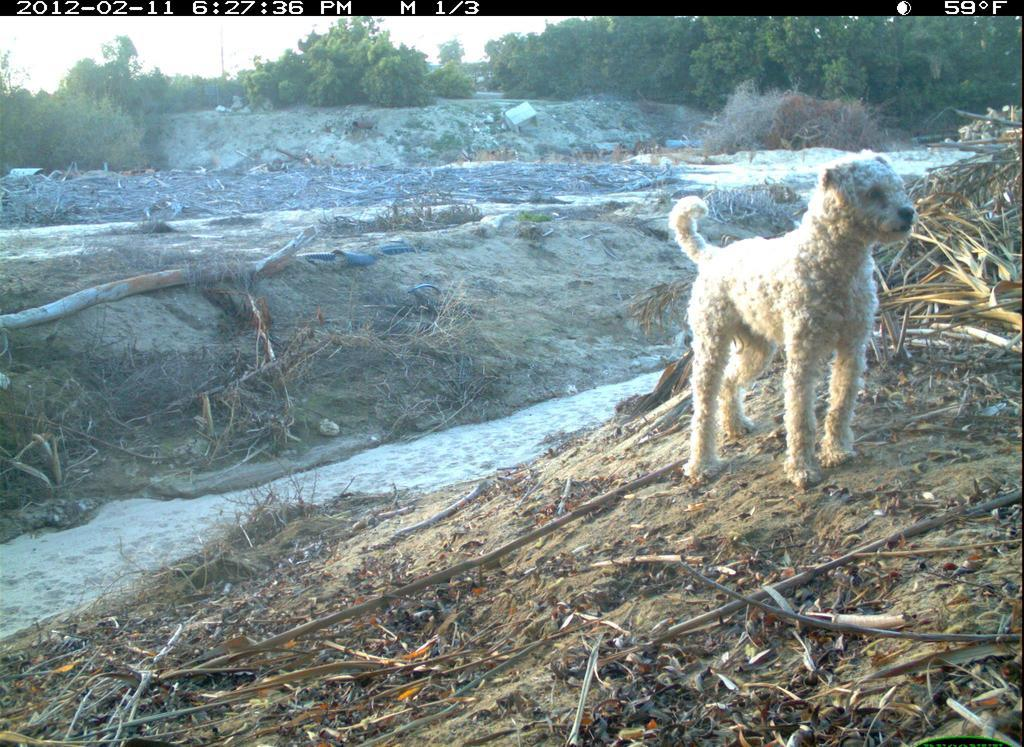dog: (646, 158, 918, 486)
